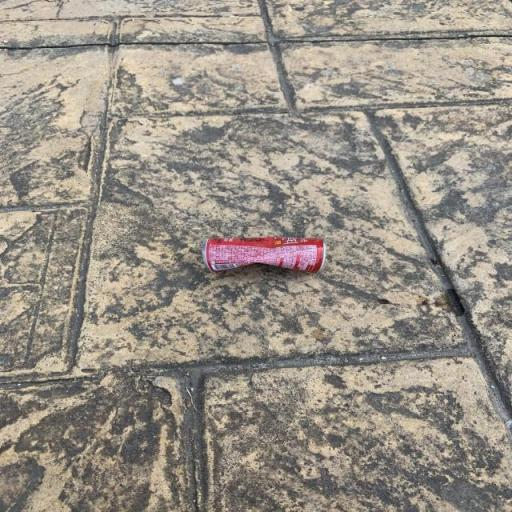metal: (170, 223, 363, 298)
